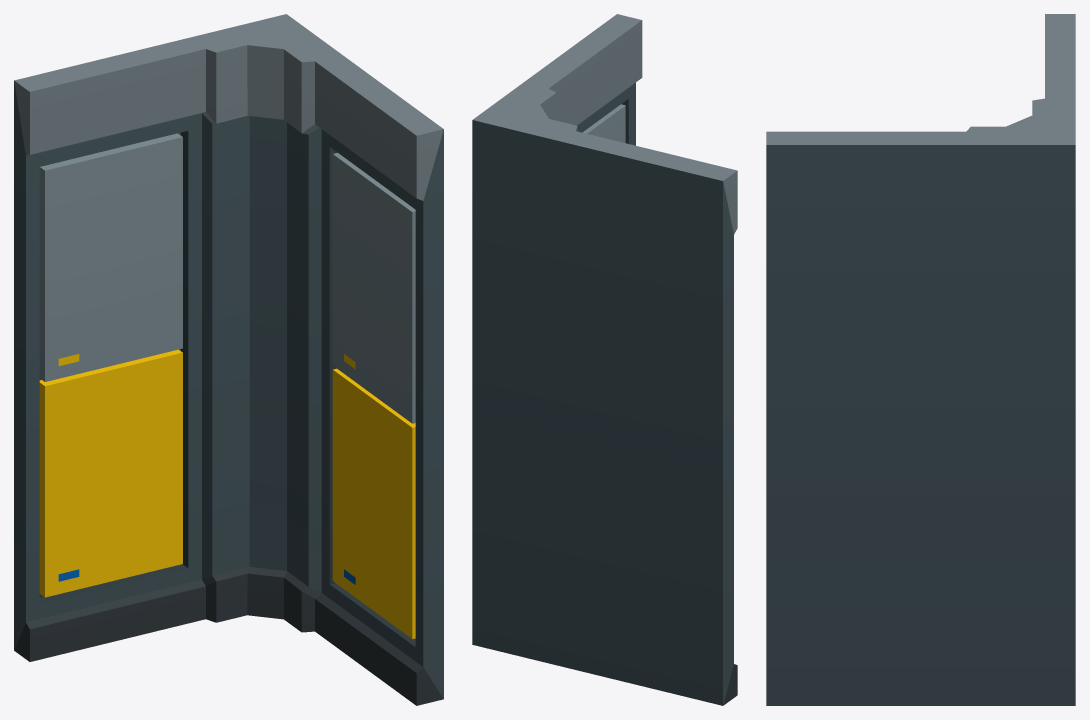
File: Wall_type_C_013.fbx
The picture shows the model from 3 angles, left to right: view 1: azimuth 30°, elevation 25°; view 2: azimuth 150°, elevation 25°; view 3: azimuth 270°, elevation 25°; orthographic projection. The views are drawn at different scales.
Parts seen in each view (by area): view 1: Wall_type_C_013; view 2: Wall_type_C_013; view 3: Wall_type_C_013.
Boxes of the visible parts, x1,y1,x2,y2 form: Wall_type_C_013: (14, 14, 443, 705); Wall_type_C_013: (472, 14, 737, 705); Wall_type_C_013: (766, 14, 1075, 705).
Bounding box in the file's own units: 200 × 200 × 400.
